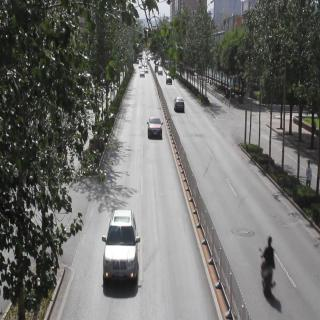Car: (101, 207, 143, 285), (147, 118, 165, 142), (174, 94, 187, 112), (164, 72, 173, 87)
